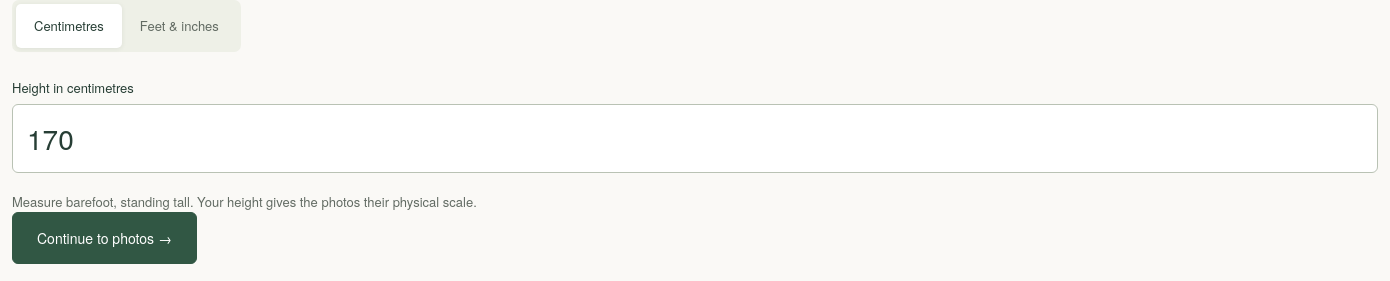
foundation › switches height units
The image size is (1390, 281).
Click the button "Feet & inches" at (179, 26), box [122, 4, 237, 48]
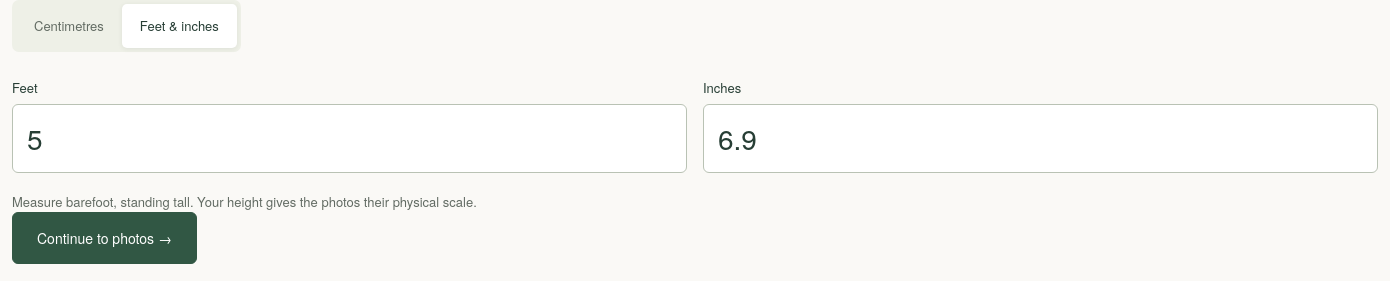
Expected: the number field labelled "Feet" holds "5", [12, 104, 687, 173]
